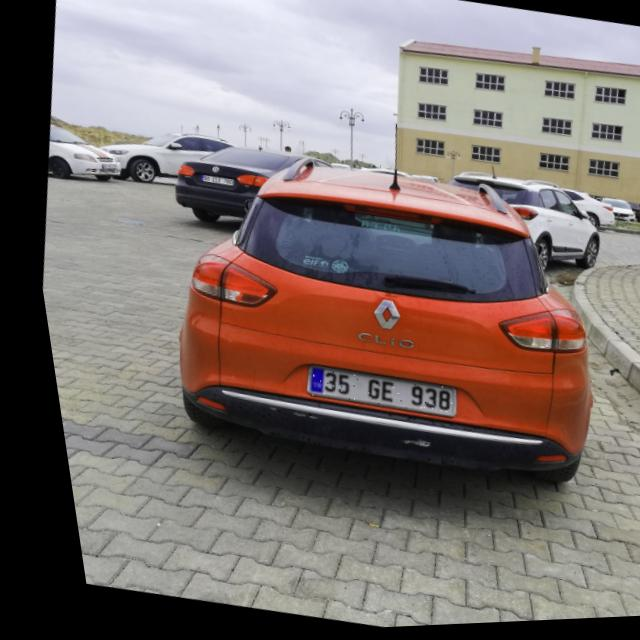license_plate: (292, 364, 447, 425), (195, 176, 230, 189)
